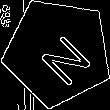N_NW: (25, 20, 90, 85)
